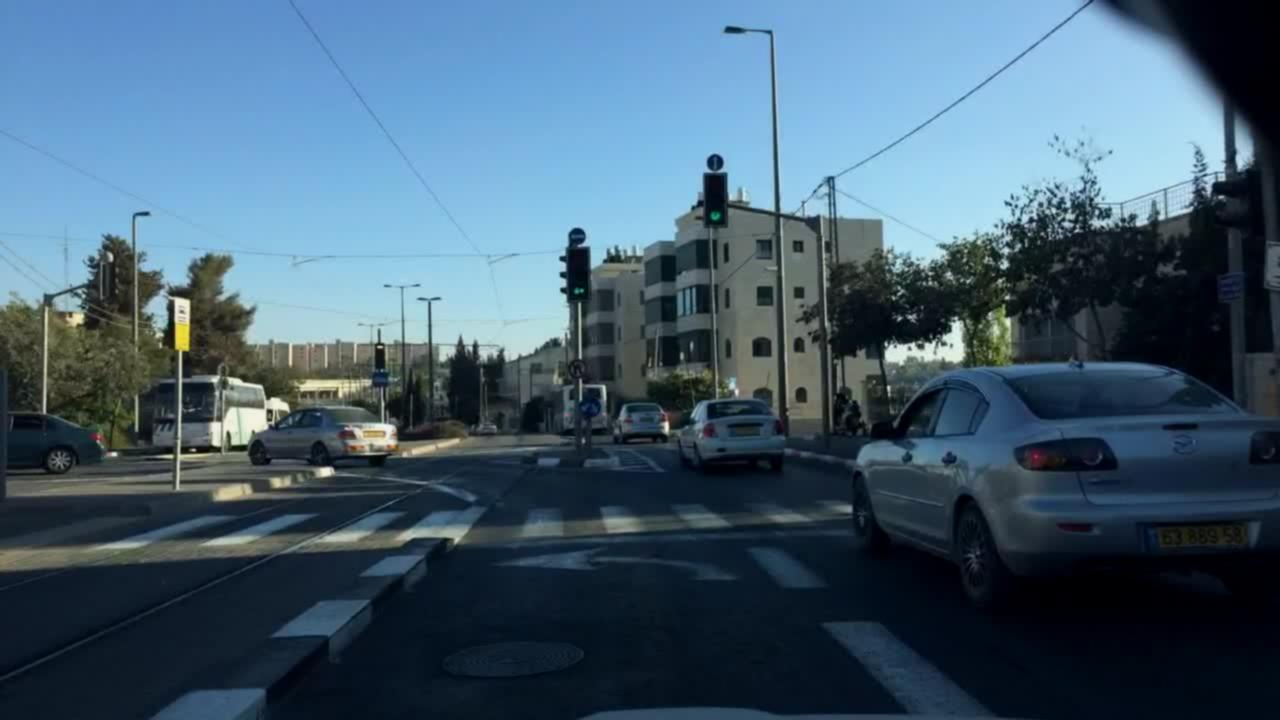Mazda: (1158, 427, 1205, 469)
